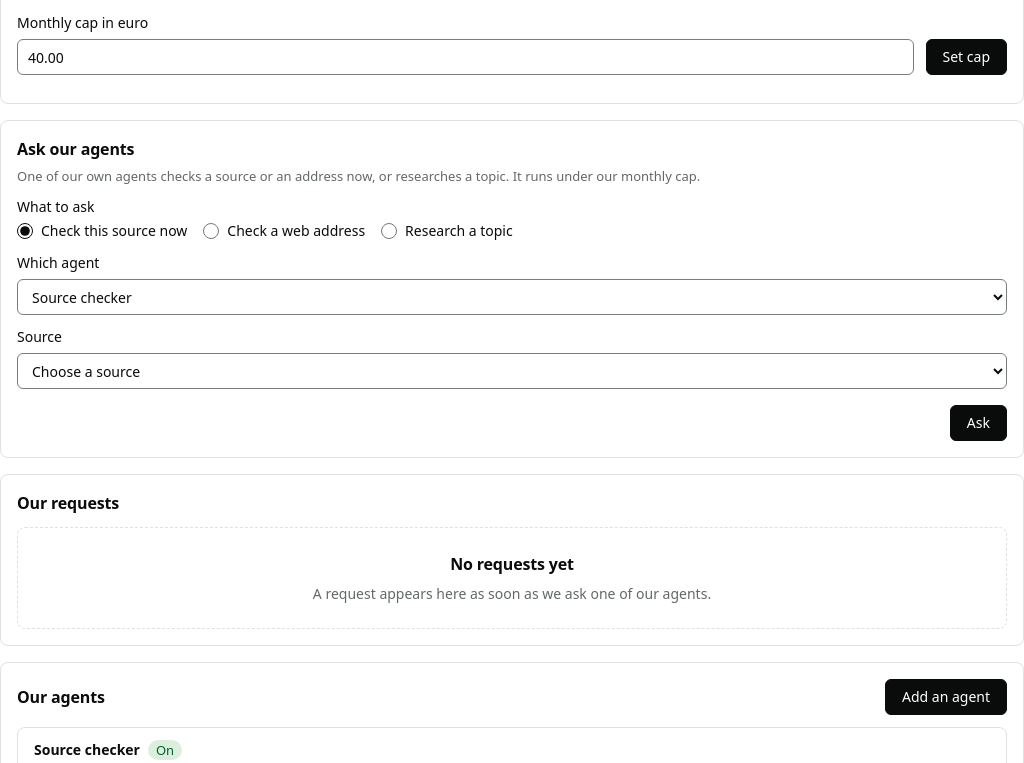
Test: research requests › renders no_tenant_agent from its code
(page scrolled)
expect the element that starts with "Ask our agents" is shown: met, box [0, 120, 1023, 458]
Select "Finansinspektionen news" in the dropdown labelled "Source" at (512, 371), box [17, 353, 1007, 389]
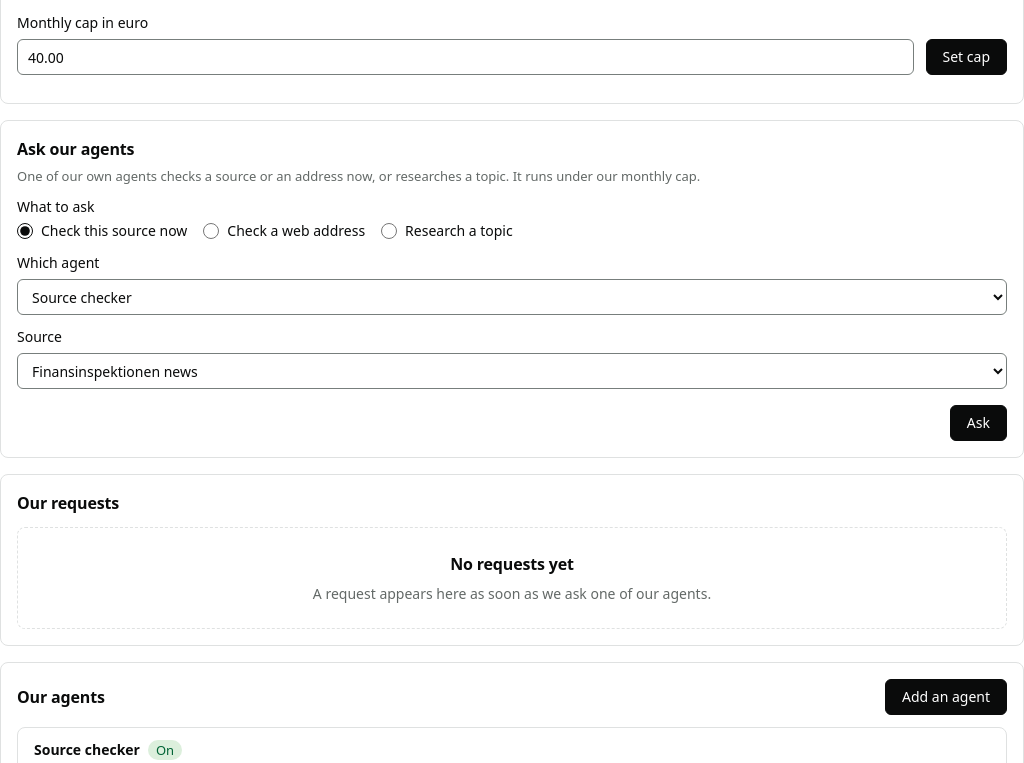
Click the button "Ask" at (978, 423), box [950, 405, 1007, 441]
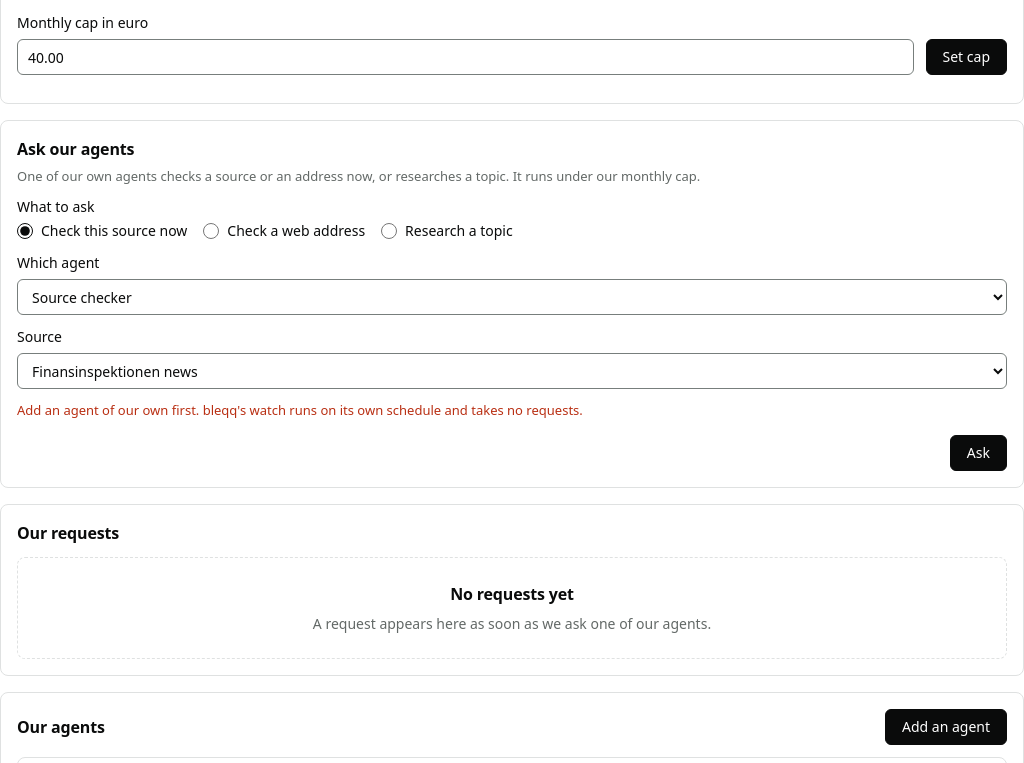
expect the text "Add an agent of our own first. bleqq's watch runs on its own schedule and takes no requests." is shown: met, box [17, 401, 583, 419]
